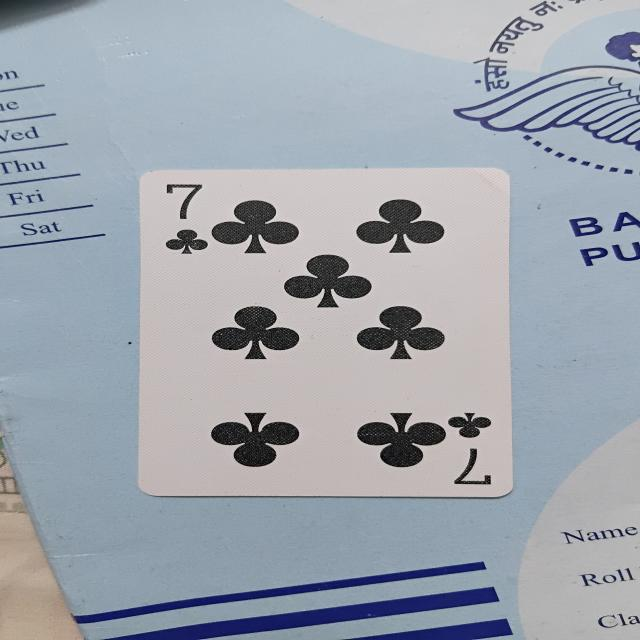7C: (142, 165, 507, 499)
